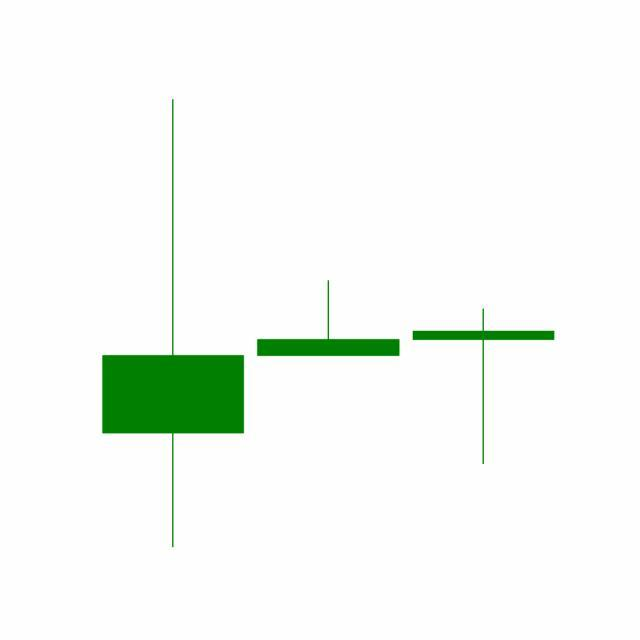Spinning Top: (406, 306, 562, 467)
